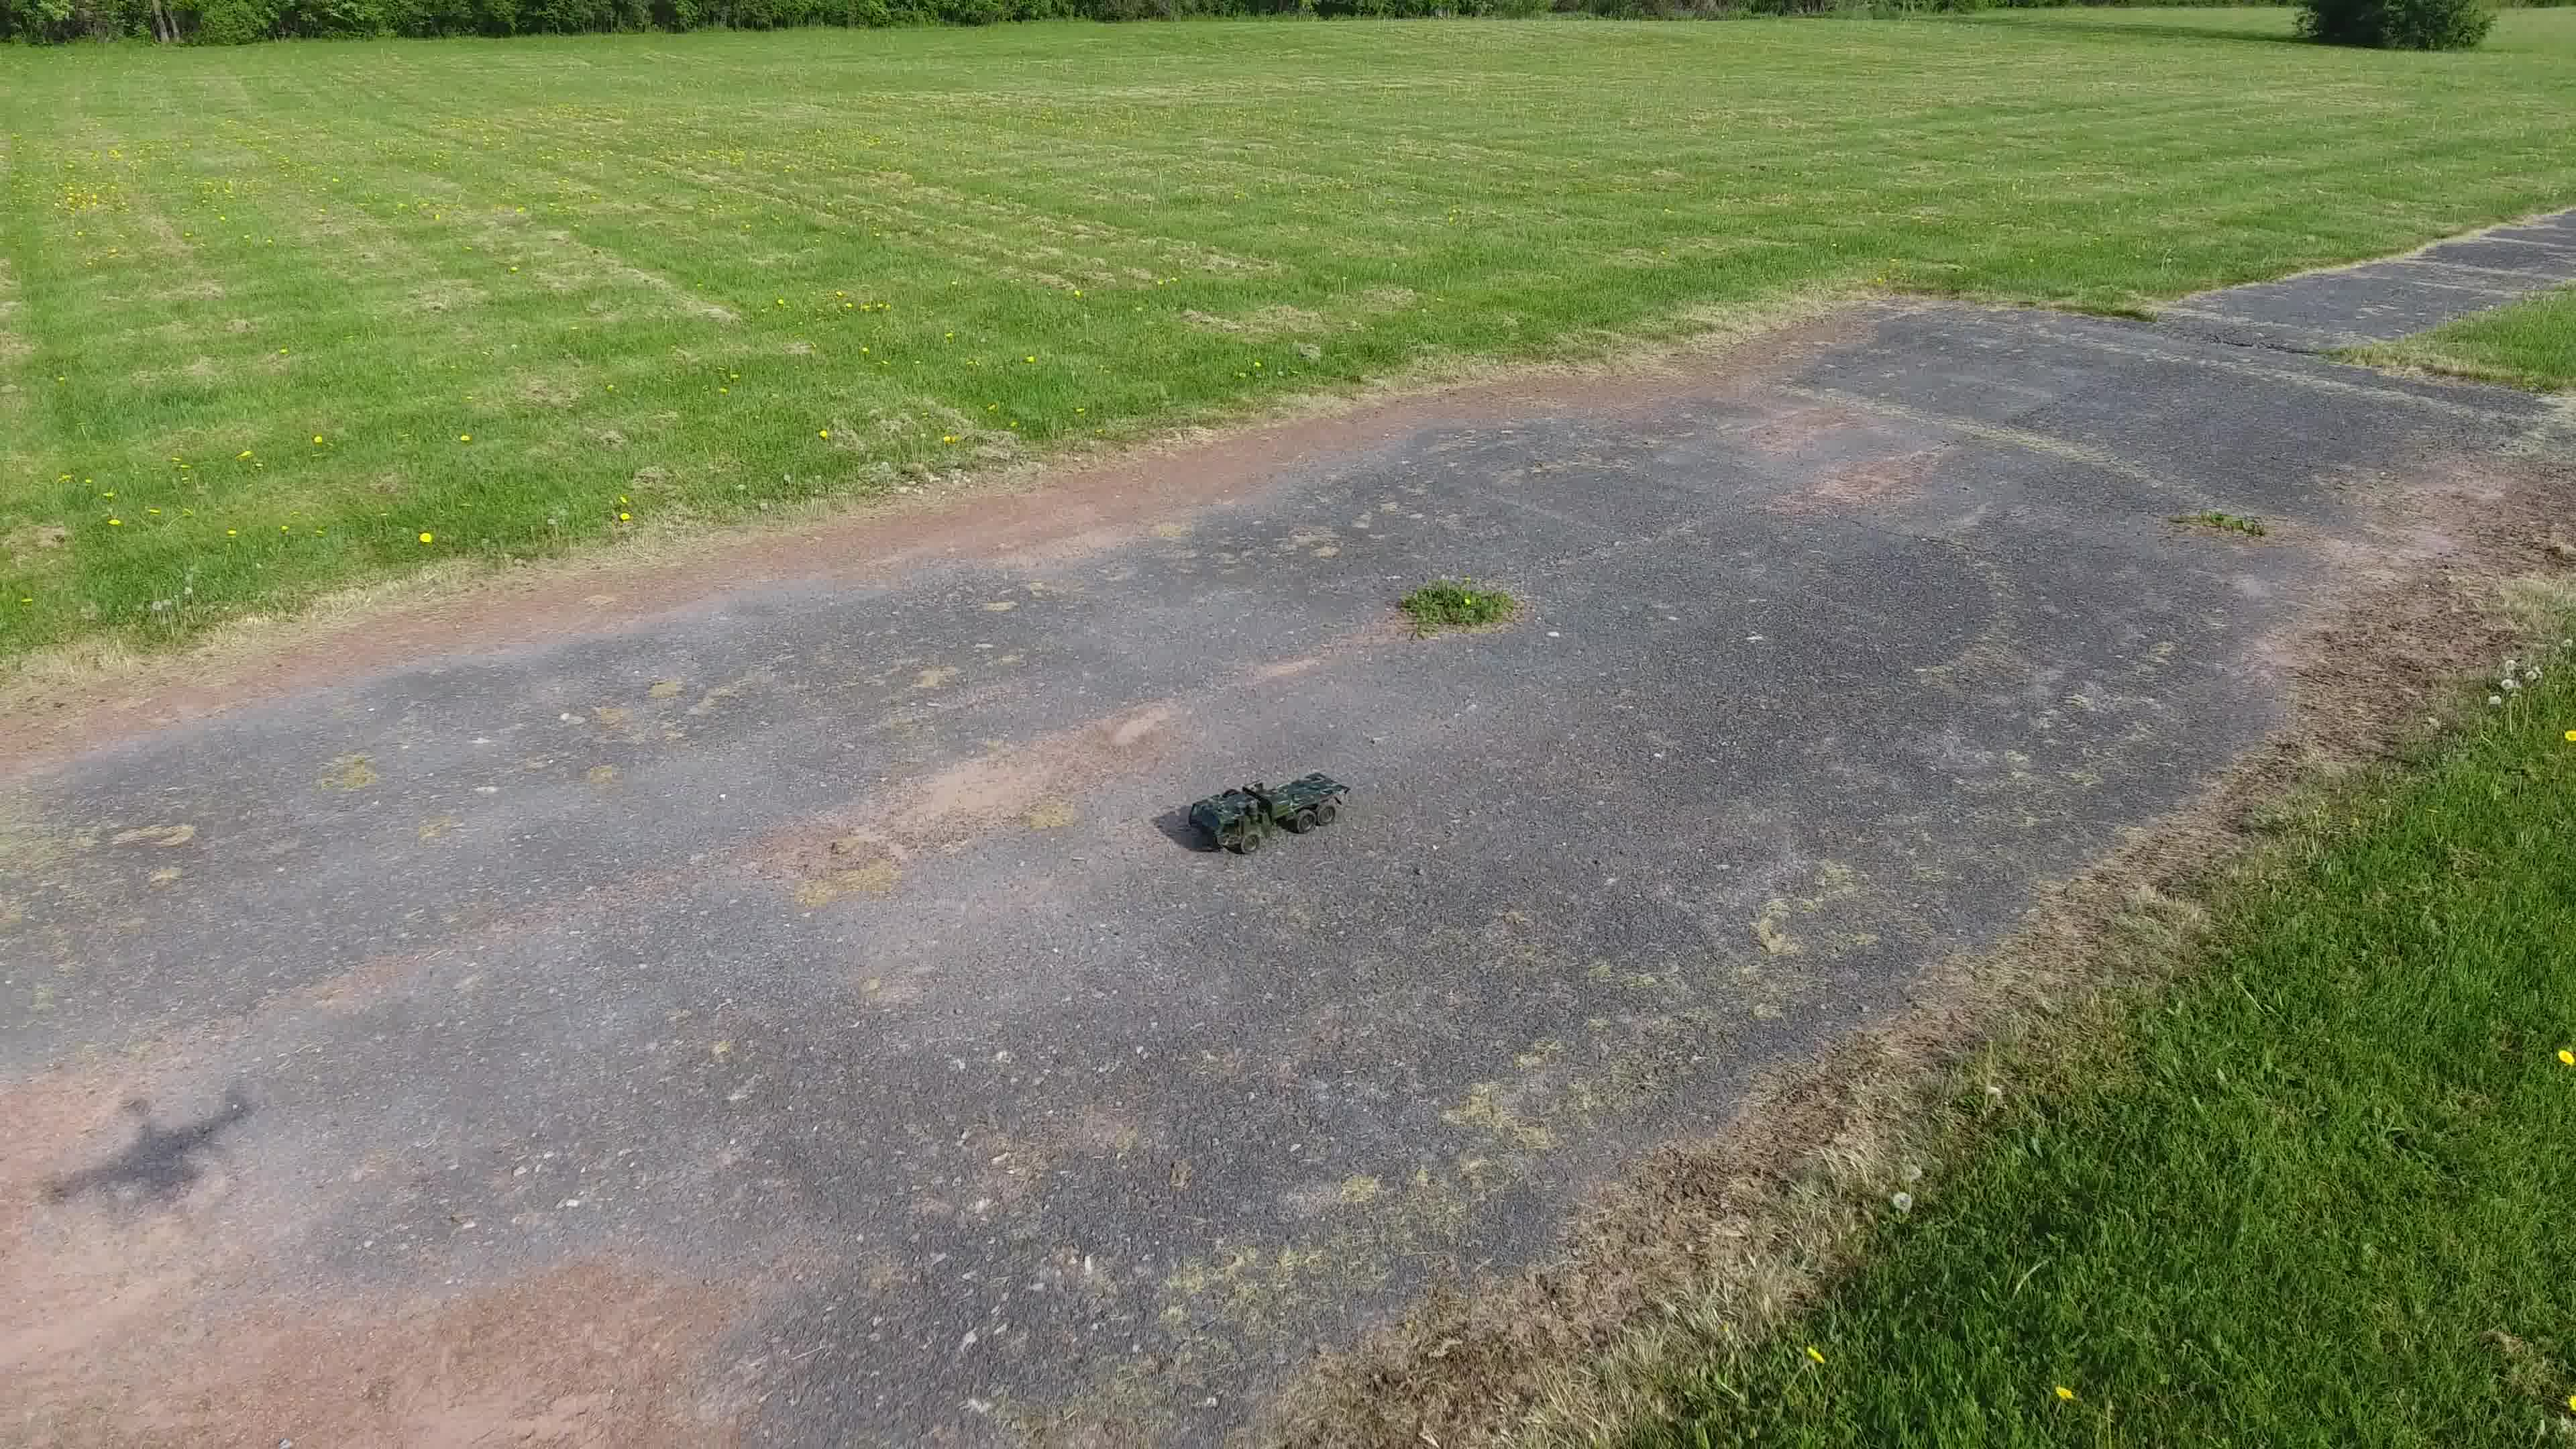transporter9_camo: (1185, 770, 1353, 855)
